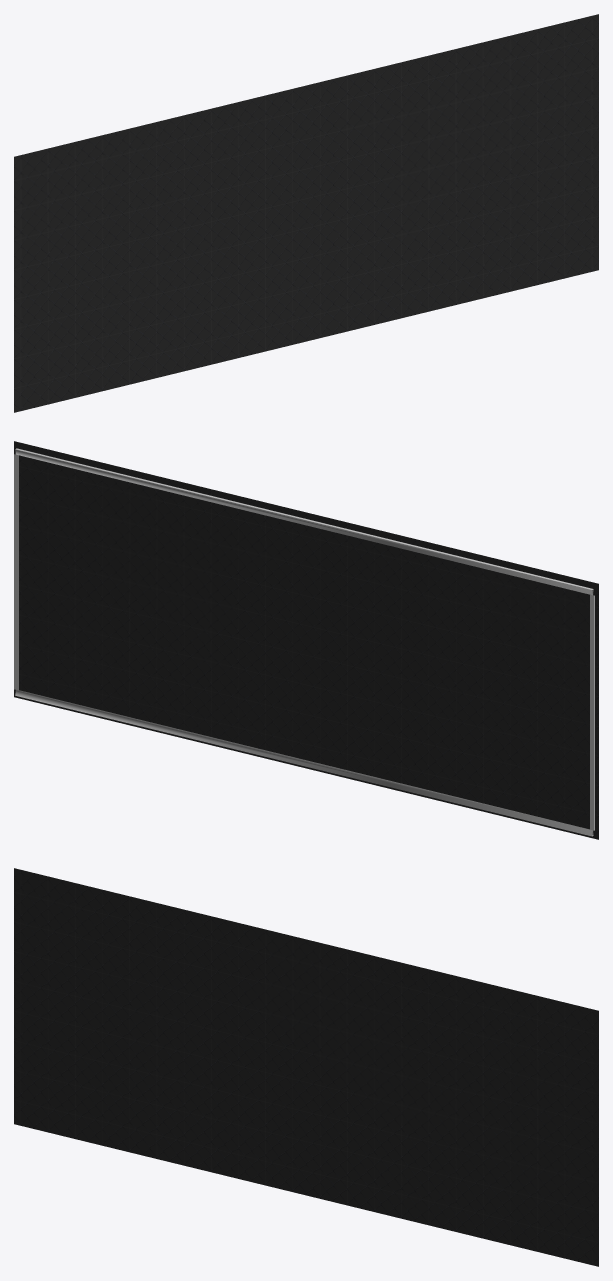
Rendered from Net_LOD2.fbx.
3 renders of one model, top to bottom at view 1: azimuth 30°, elevation 25°; view 2: azimuth 150°, elevation 25°; view 3: azimuth 330°, elevation 25°, orthographic.
Visible parts, largest first — view 1: polySurface171; view 2: polySurface171; view 3: polySurface171.
Boxes of the visible parts, left/top/right/bottom form: polySurface171: left=14, top=14, right=598, bottom=412; polySurface171: left=14, top=441, right=598, bottom=839; polySurface171: left=14, top=868, right=598, bottom=1266.
Bounding box in the file's own units: 4.88 × 2.04 × 0.0391.
